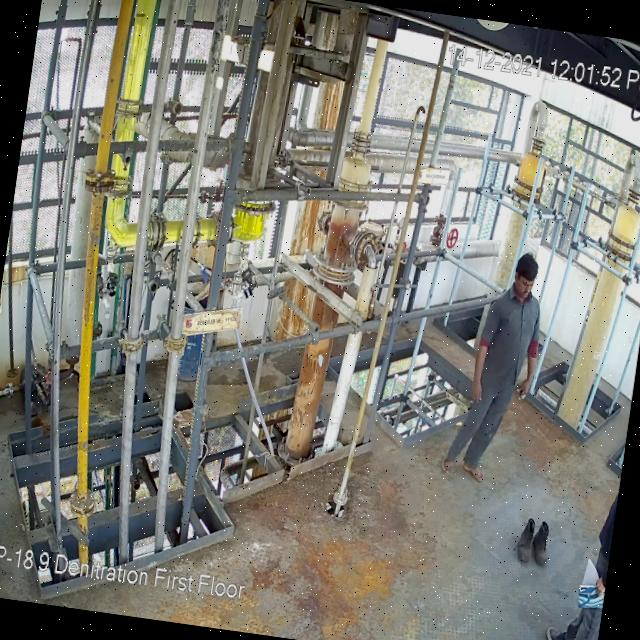boots: (526, 516, 558, 576), (511, 515, 538, 564)
no-boots: (460, 454, 488, 484)
